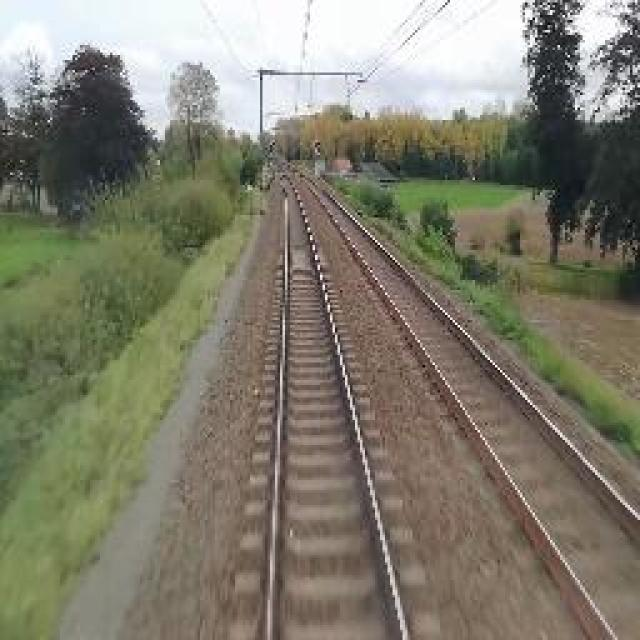rail: (230, 164, 447, 640)
